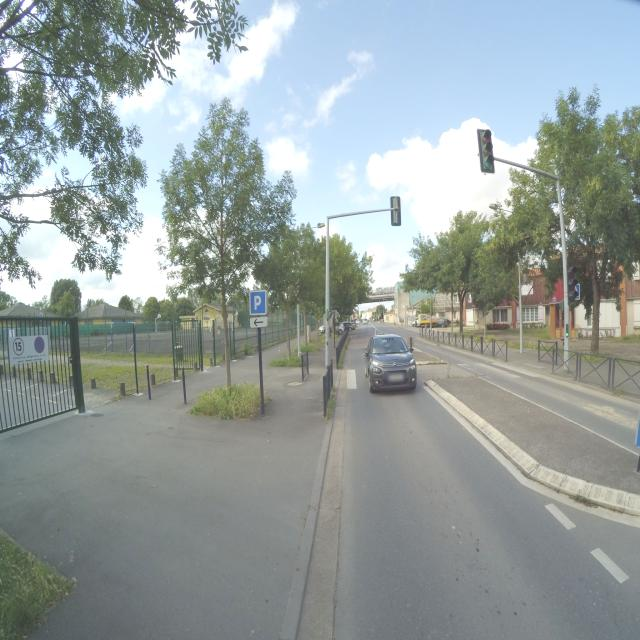car: (363, 333, 418, 393), (343, 320, 356, 332), (335, 322, 345, 334), (362, 317, 369, 328)
